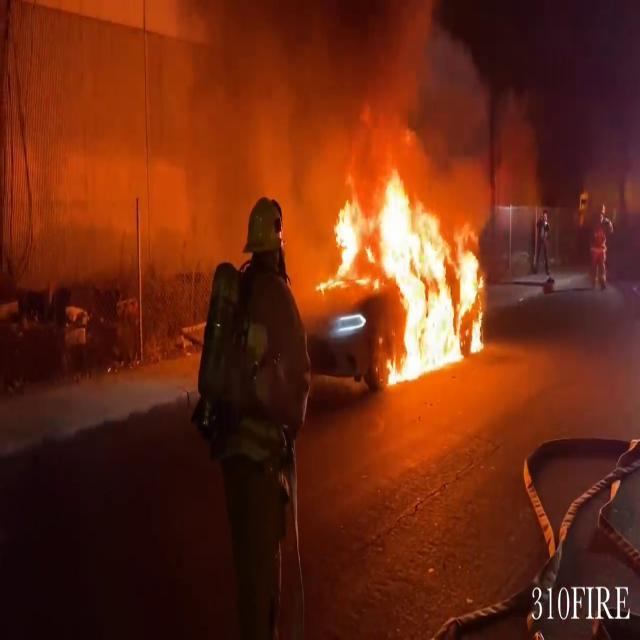Fire: (314, 162, 492, 384)
Smoke: (256, 0, 468, 187)
